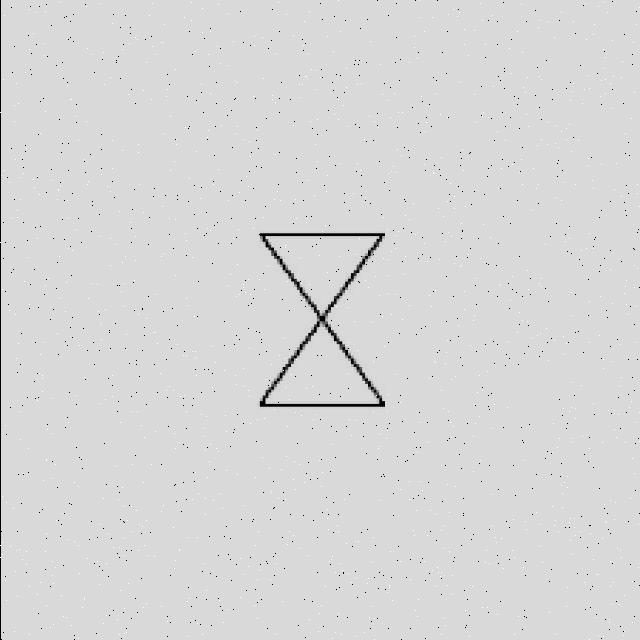Gate Valve: (246, 203, 402, 457)
